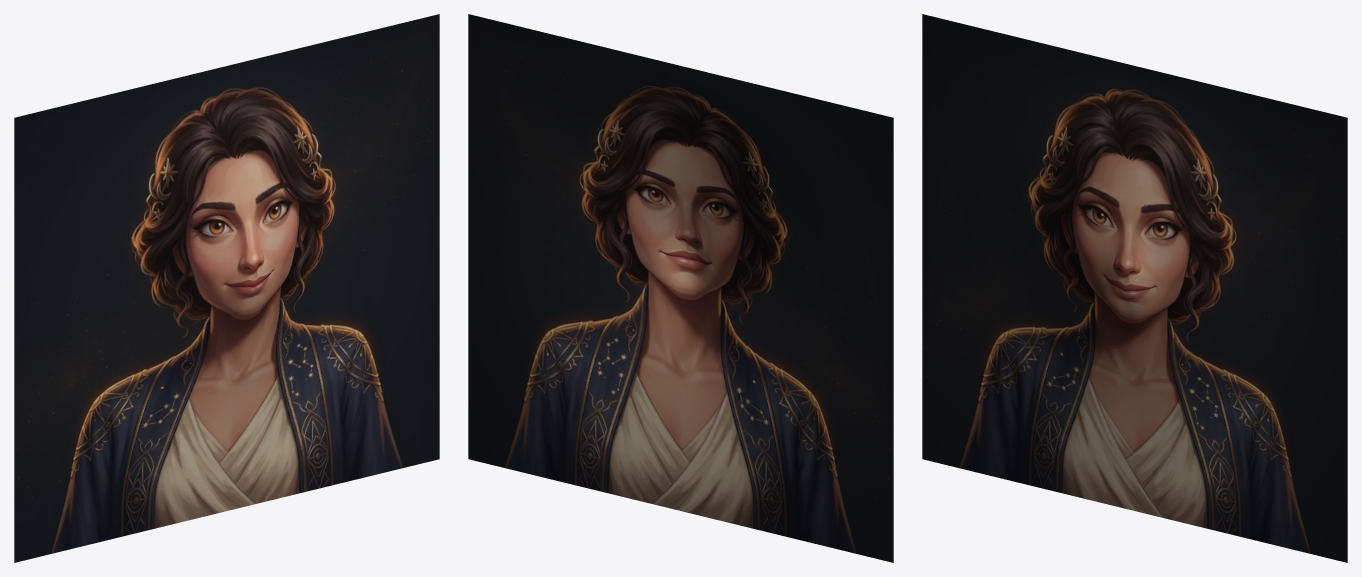
File: maya-3d.glb
The picture shows the model from 3 angles, left to right: view 1: azimuth 30°, elevation 25°; view 2: azimuth 150°, elevation 25°; view 3: azimuth 330°, elevation 25°; orthographic projection.
Parts seen in each view (by area): view 1: MayaUnifiedHead; view 2: MayaUnifiedHead; view 3: MayaUnifiedHead.
Part boxes in pixels (box(x1,y1,x2,y2)): MayaUnifiedHead: box(14, 14, 439, 562); MayaUnifiedHead: box(468, 14, 893, 562); MayaUnifiedHead: box(922, 14, 1347, 562).
Size of the model in its own units: 2 by 2 by 0.1547.
Materials: 1 (1 with a texture image).
